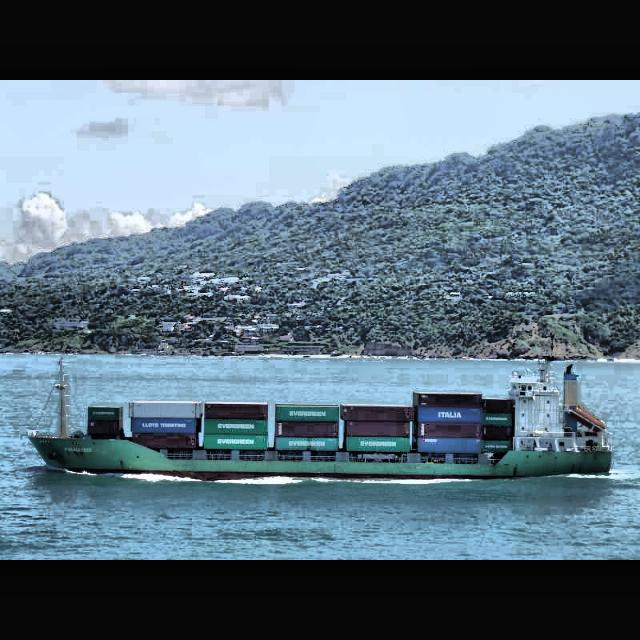container: (28, 352, 616, 481)
